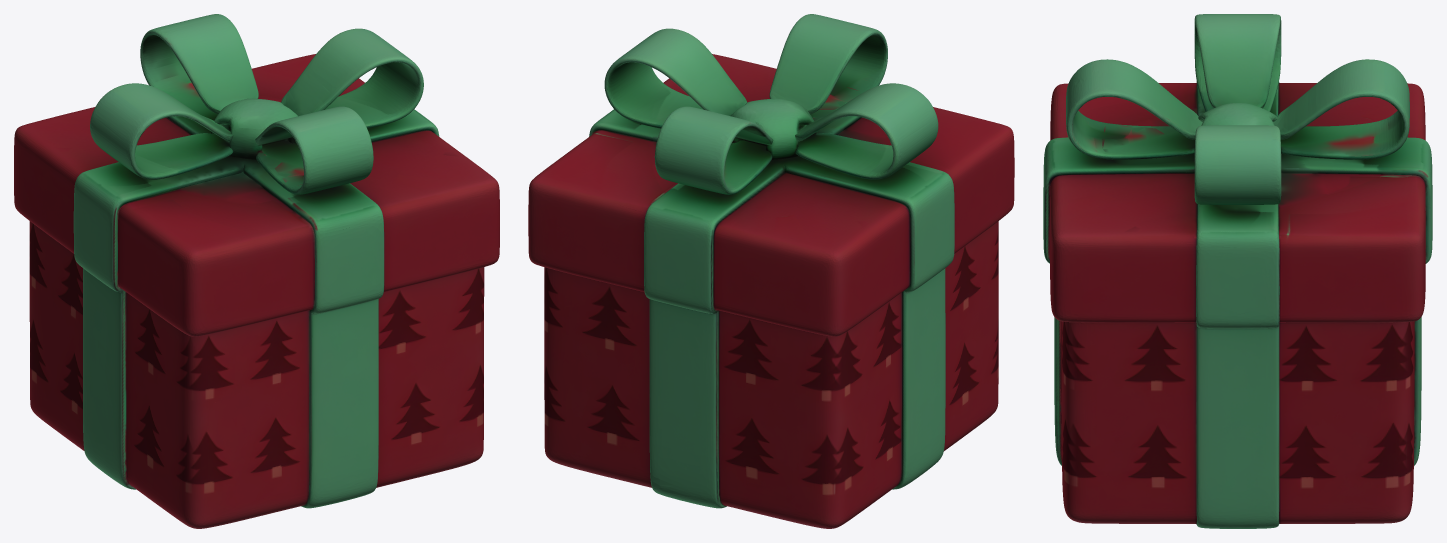
3 renders of one model, left to right at view 1: azimuth 30°, elevation 25°; view 2: azimuth 150°, elevation 25°; view 3: azimuth 270°, elevation 25°, orthographic. The views are drawn at different scales.
Parts seen in each view (by area): view 1: node_0; view 2: node_0; view 3: node_0.
Part boxes in pixels (x1,y1,x2,y2): node_0: (14,14,499,528); node_0: (528,14,1014,528); node_0: (1043,14,1432,528).
Size of the model in its own units: 0.7554 by 0.817 by 0.7524.
Materials: 1 (1 with a texture image).
